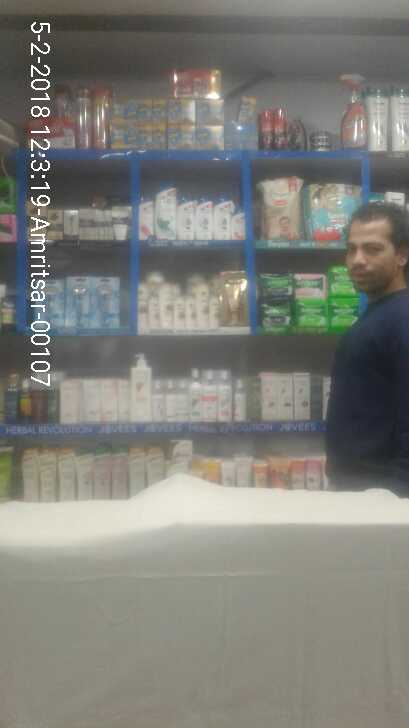venus: (36, 276, 66, 326), (66, 276, 93, 325), (93, 278, 120, 325)
